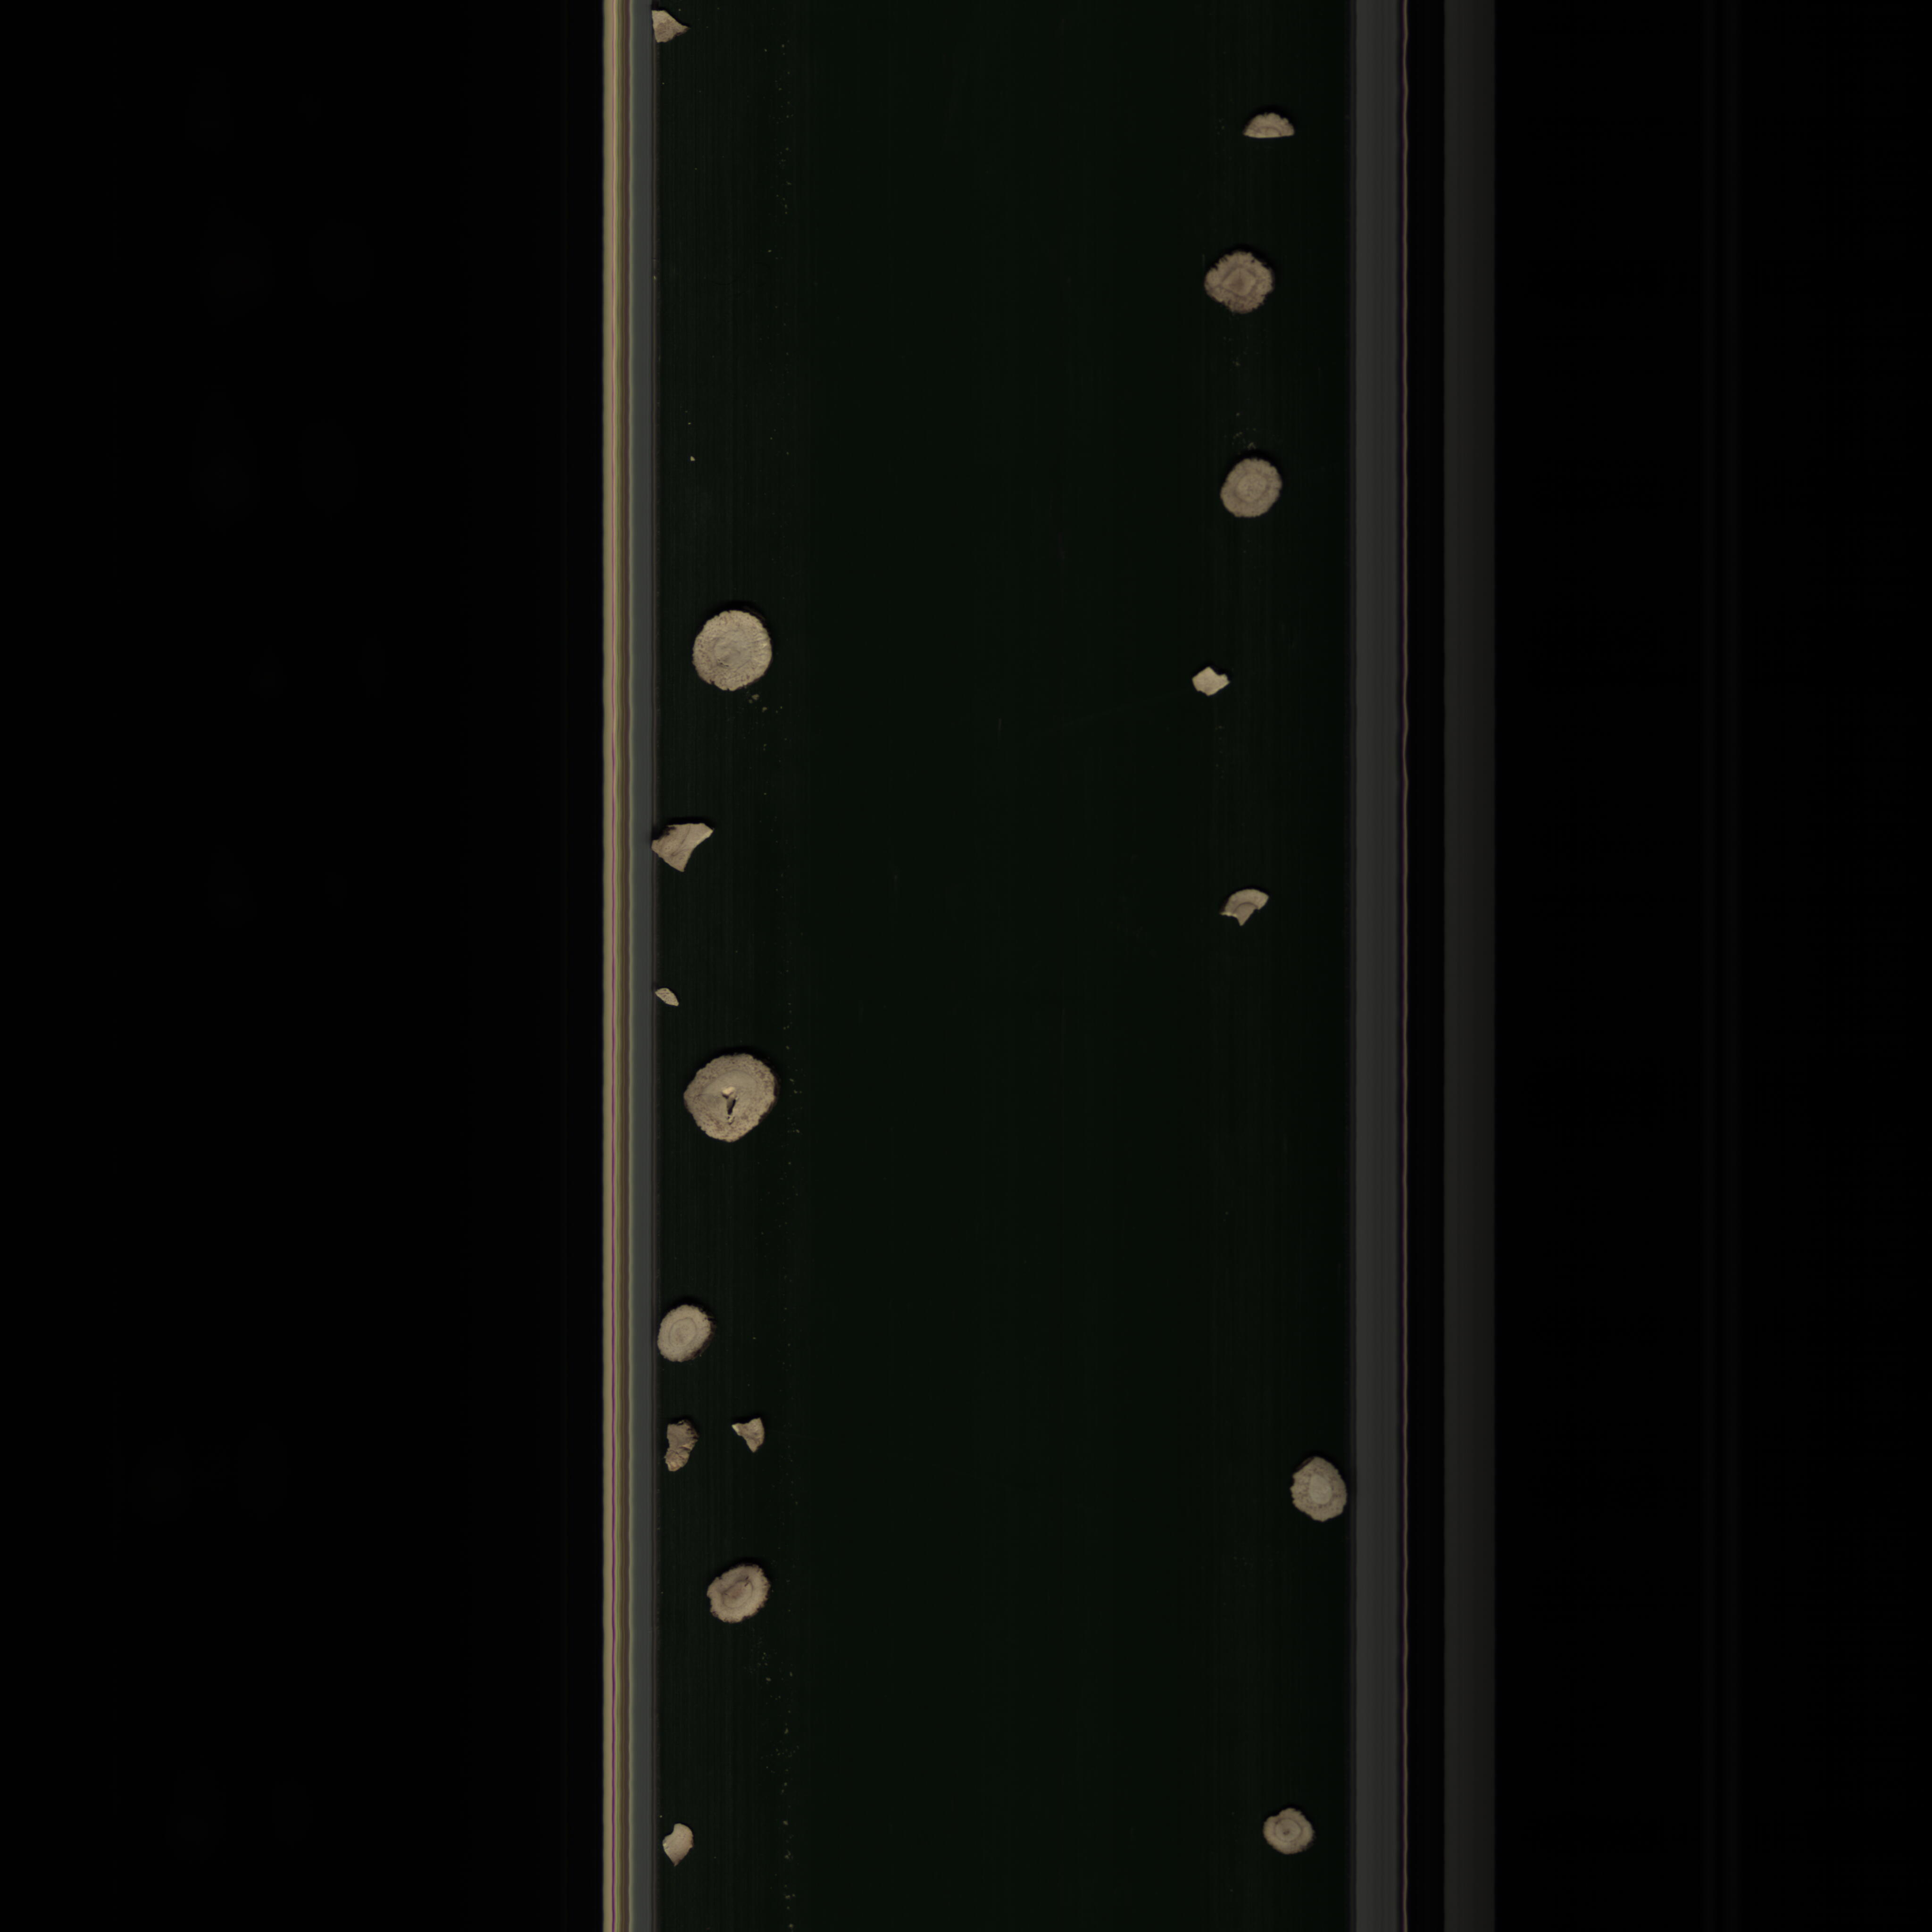debris: (646, 810, 717, 879), (1173, 655, 1237, 709), (1237, 103, 1304, 149), (655, 1419, 701, 1477), (1219, 883, 1269, 929), (656, 1817, 699, 1870), (649, 2, 694, 51), (731, 1412, 770, 1460), (653, 977, 686, 1017)
hole: (672, 1053, 786, 1146)
moldy: (1196, 246, 1279, 322), (704, 1564, 771, 1628)
